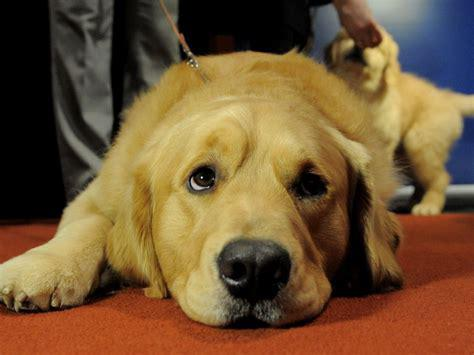dog: (1, 53, 401, 327), (327, 26, 474, 216)
